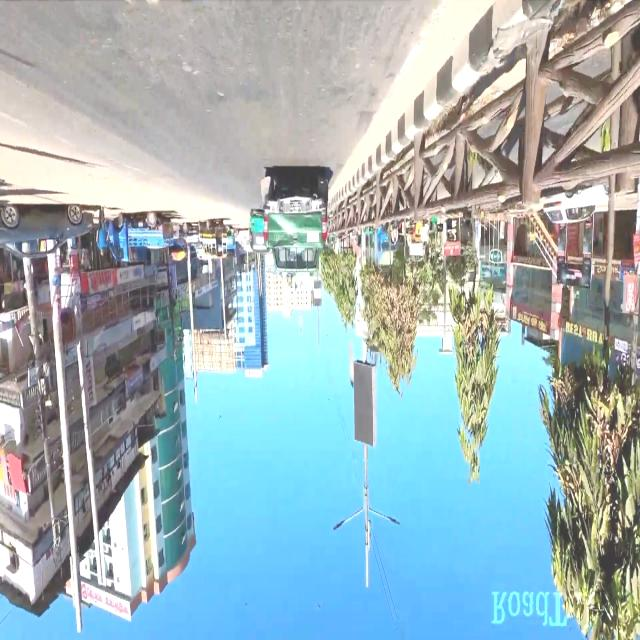black: (0, 203, 93, 260)
white: (542, 186, 612, 225)
